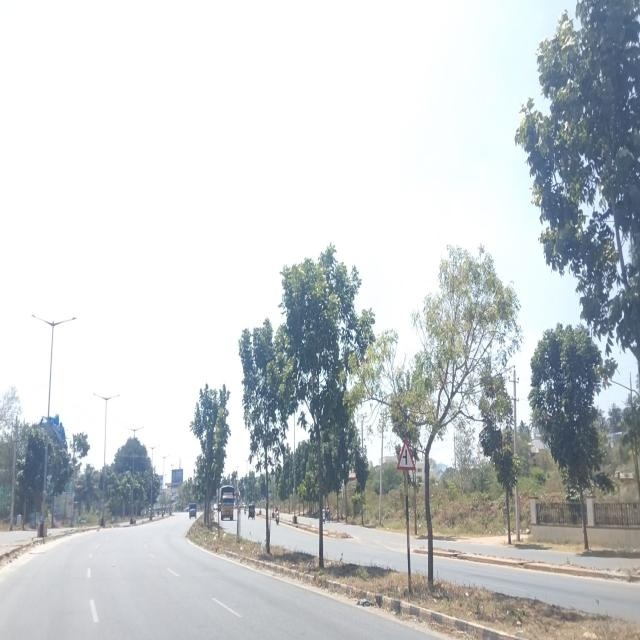bien_nguy_hiem: (397, 439, 415, 471)
